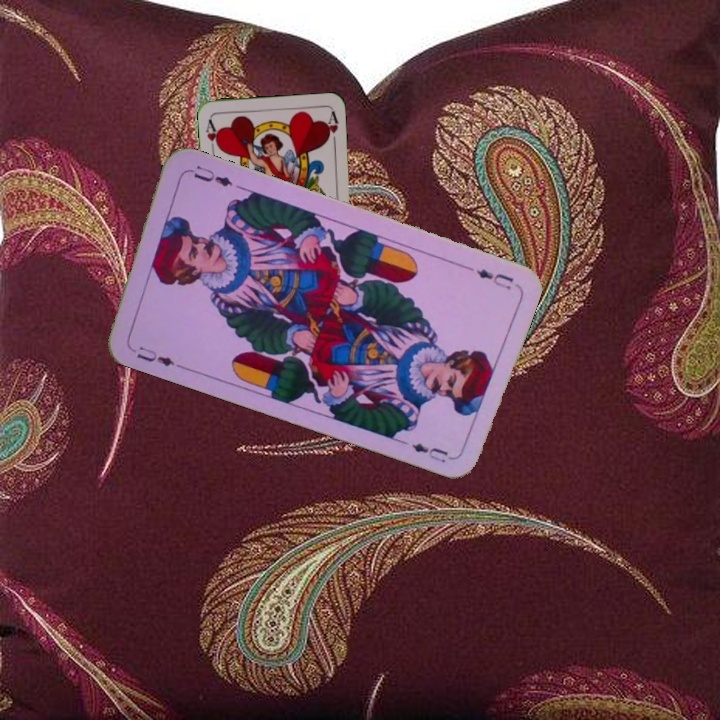EU: (125, 341, 182, 370), (472, 264, 516, 293)
HA: (201, 115, 222, 155)
